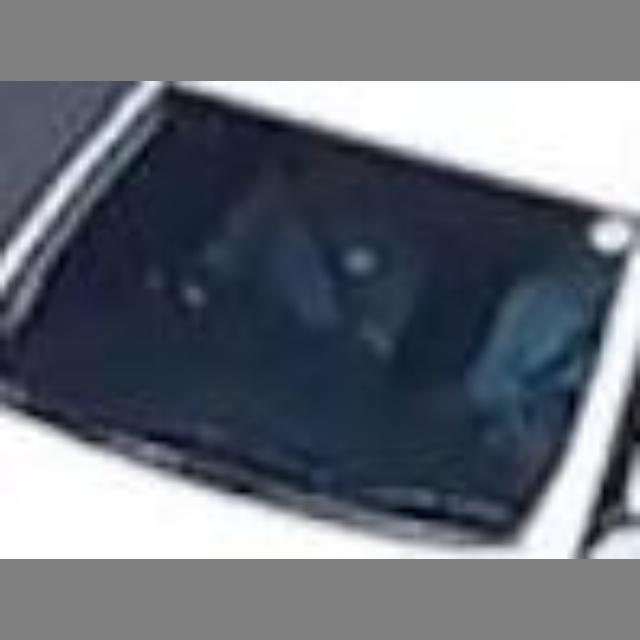pakai: (213, 120, 433, 430), (465, 236, 621, 508)
